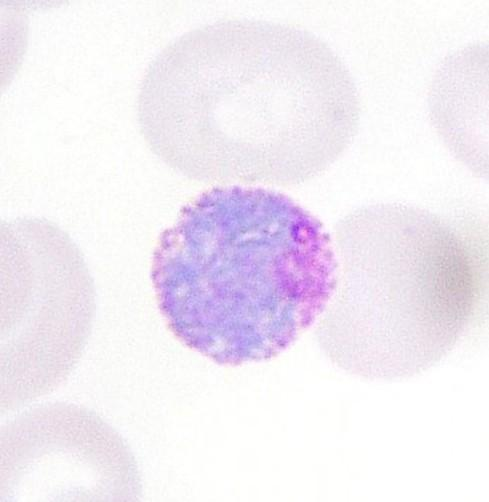Infected: (151, 184, 341, 364)
Uninfected: (138, 19, 362, 186), (308, 197, 473, 379), (0, 217, 100, 403), (0, 405, 143, 502)
